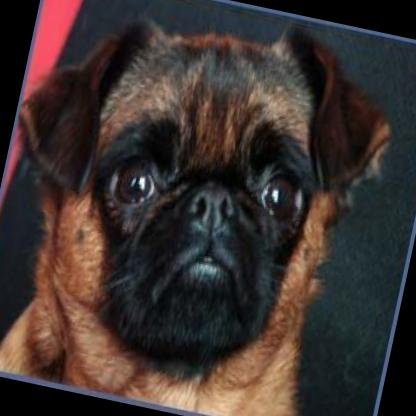Brabancon_griffon: (0, 0, 406, 416)
